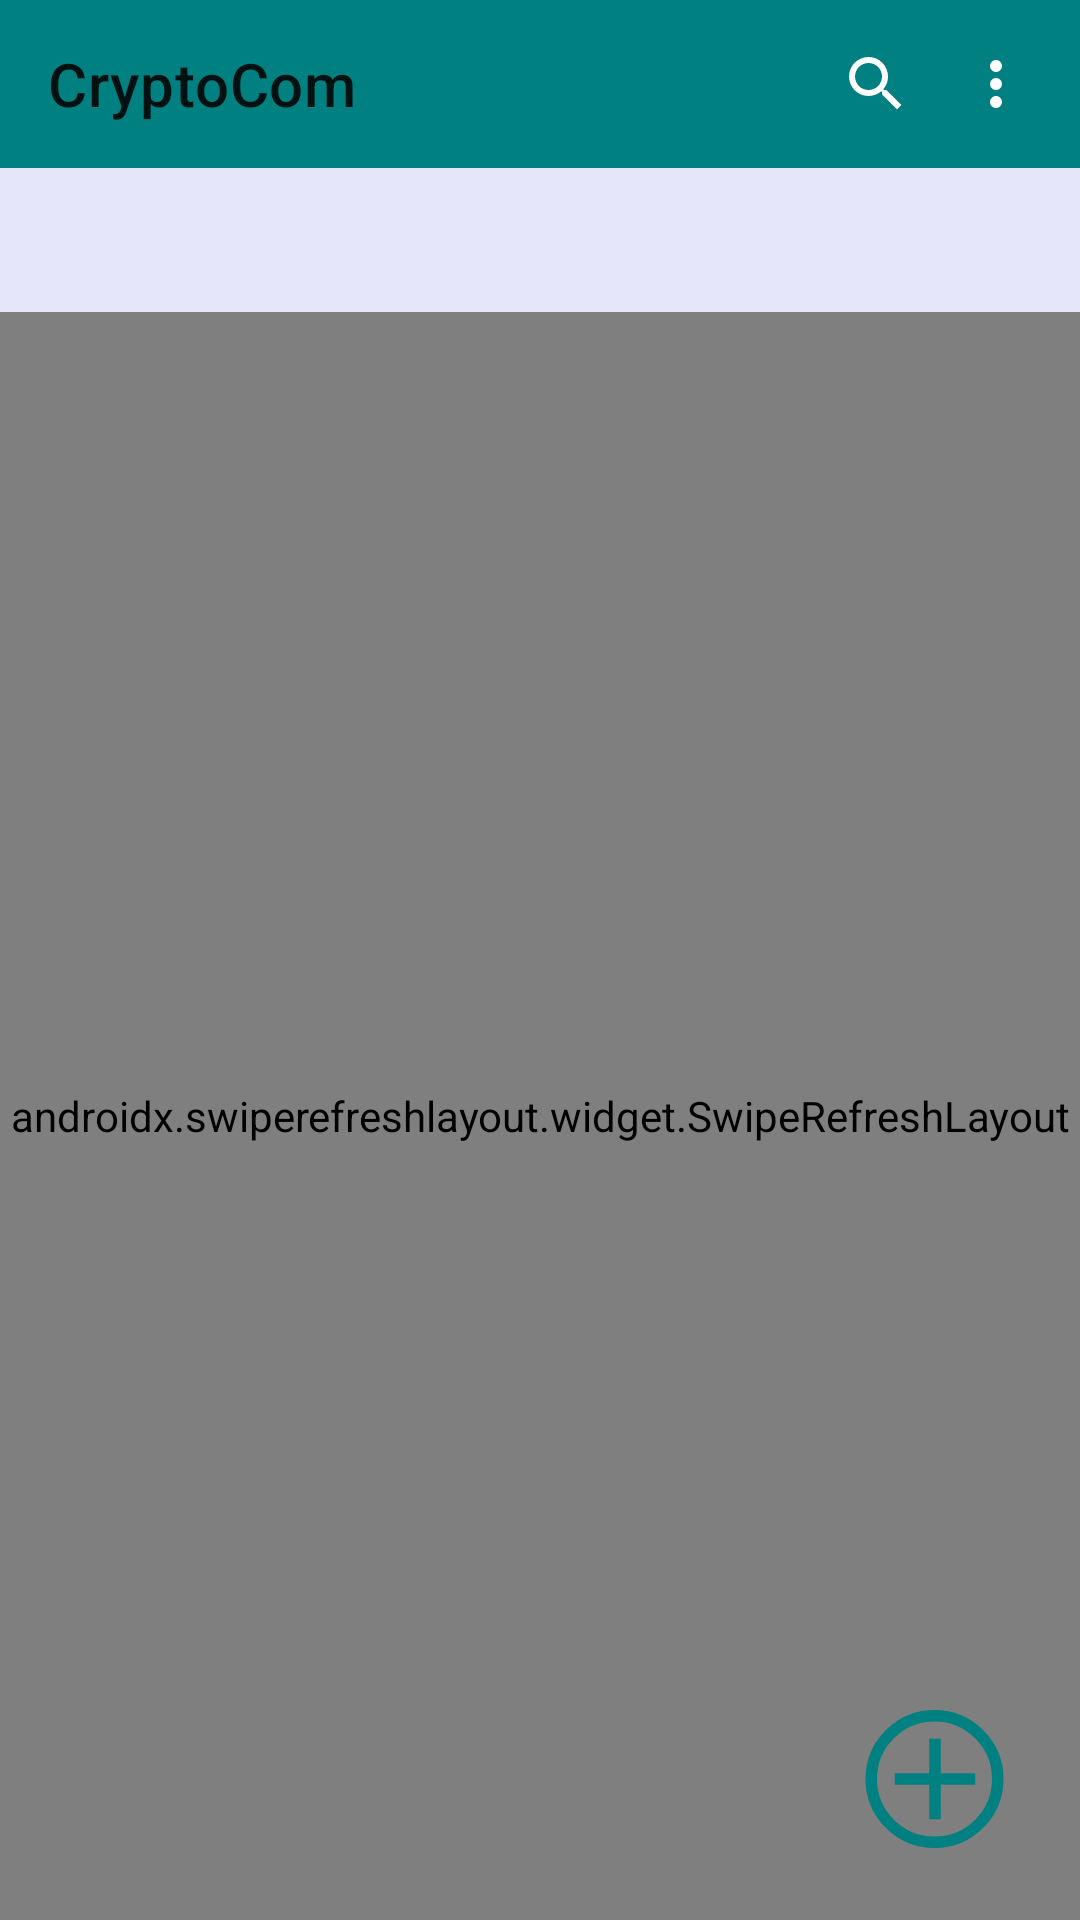

Locate icon controls on the screen. Image size 1080px x 1920px, boxes as (x1, y1, x2, y2).
New Chat: (865, 1710, 1004, 1848)
Options: (990, 60, 1002, 108)
Search: (849, 57, 901, 109)
